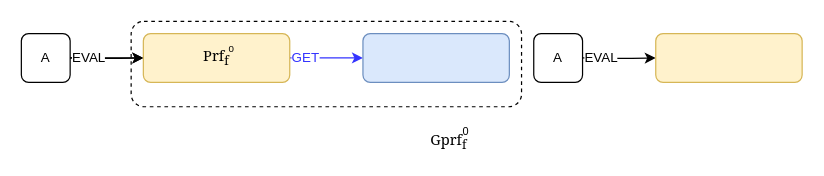
Image size: 824x176. Some labels were removed from this diagram. Each missing label, with the centre of its shape:
Gprf 1: the point at 728,57
Key: the point at 435,57
